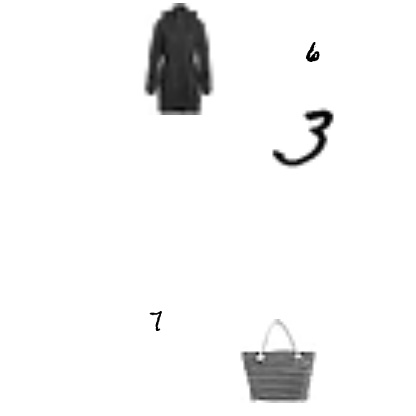3: (267, 96, 351, 180)
6: (298, 40, 326, 68)
7: (143, 305, 171, 333)
Bag: (235, 319, 319, 403)
Coat: (121, 3, 233, 115)
